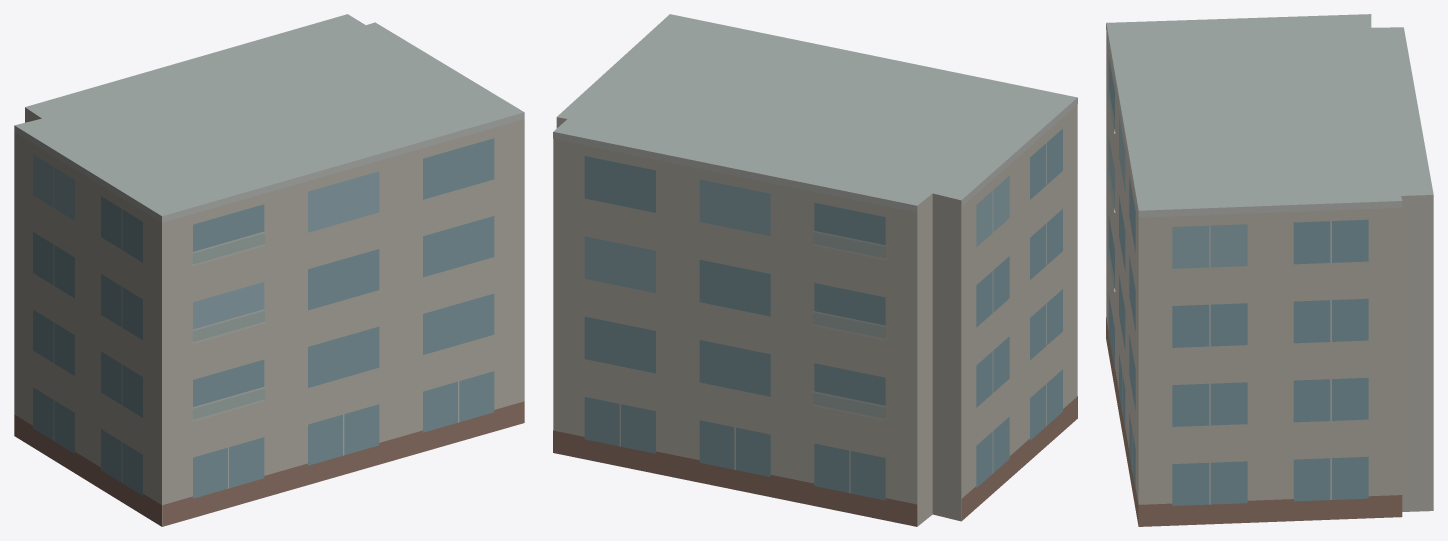
The model's file is survey-upis-32622477.glb.
3 views of the same model, side by side, from view 1: azimuth 30°, elevation 25°; view 2: azimuth 150°, elevation 25°; view 3: azimuth 270°, elevation 25° (orthographic). The views are drawn at different scales.
Parts seen in each view (by area): view 1: survey-upis-32622477.tmp; view 2: survey-upis-32622477.tmp; view 3: survey-upis-32622477.tmp.
Part boxes in pixels (box(x1,y1,x2,y2)): survey-upis-32622477.tmp: box(14, 14, 524, 526); survey-upis-32622477.tmp: box(553, 14, 1077, 526); survey-upis-32622477.tmp: box(1106, 14, 1433, 526).
Bounding box in the file's own units: 15.23 × 11.4 × 10.71.
